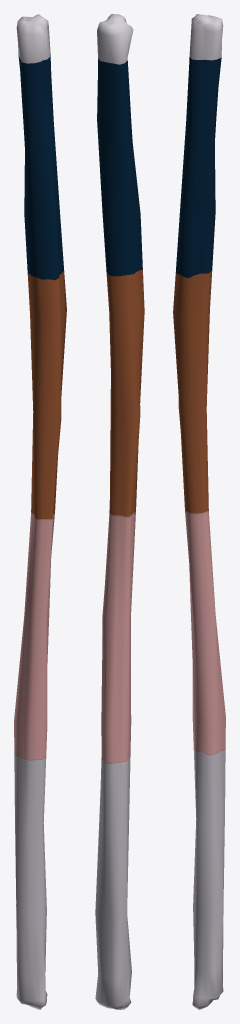
File: Mast.fbx
3 views of the same model, side by side, from view 1: azimuth 90°, elevation 25°; view 2: azimuth 150°, elevation 25°; view 3: azimuth 270°, elevation 25° (orthographic).
Parts seen in each view (by area): view 1: Mast; view 2: Mast; view 3: Mast.
Part boxes in pixels (left/top/right/bottom): Mast: left=14, top=14, right=66, bottom=1009; Mast: left=95, top=14, right=144, bottom=1009; Mast: left=173, top=14, right=225, bottom=1009.
Size of the model in its own units: 69.78 by 1732 by 83.83.
